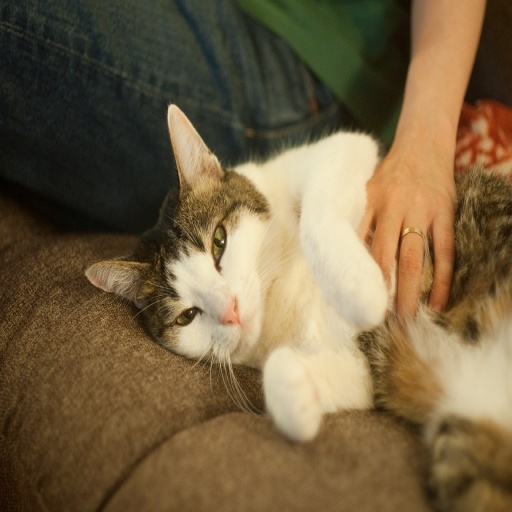hand: (353, 145, 459, 326)
